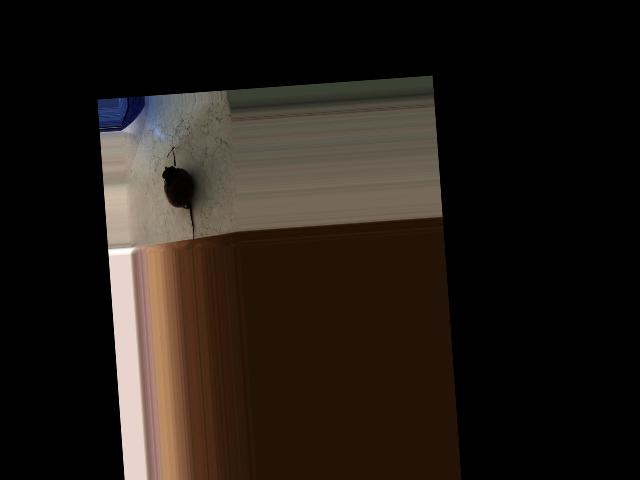beet: (161, 145, 197, 244)
